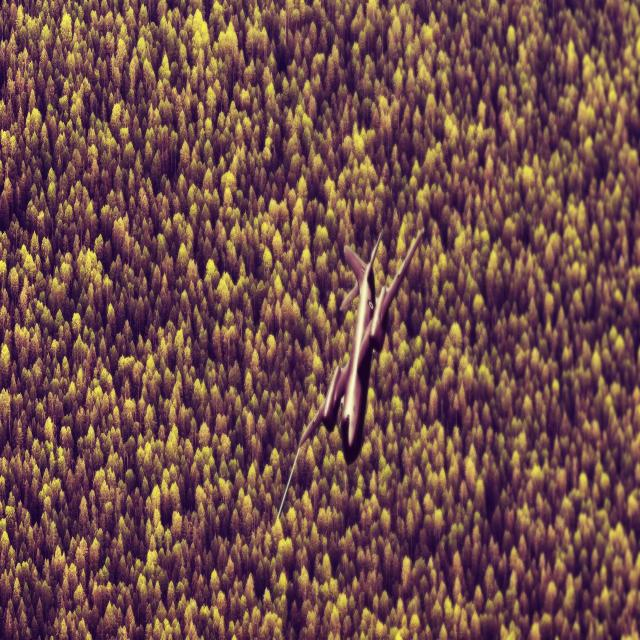airplane: (275, 223, 425, 522)
